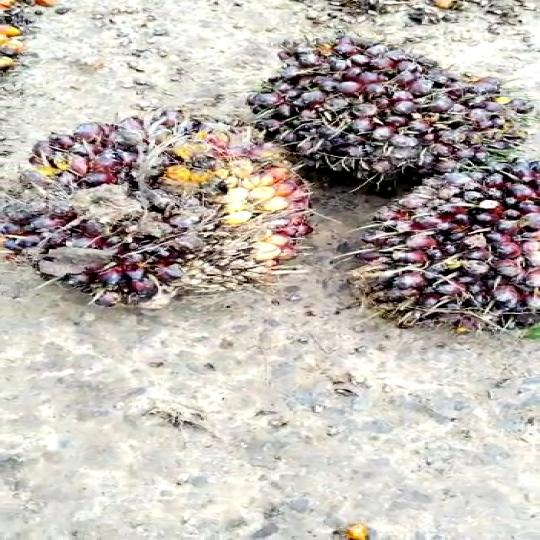kurang masak: (0, 98, 309, 302), (252, 15, 540, 226), (339, 142, 540, 352)
